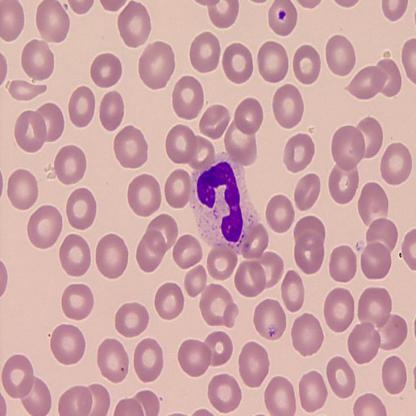Band Neutrophil: (186, 147, 264, 257)
